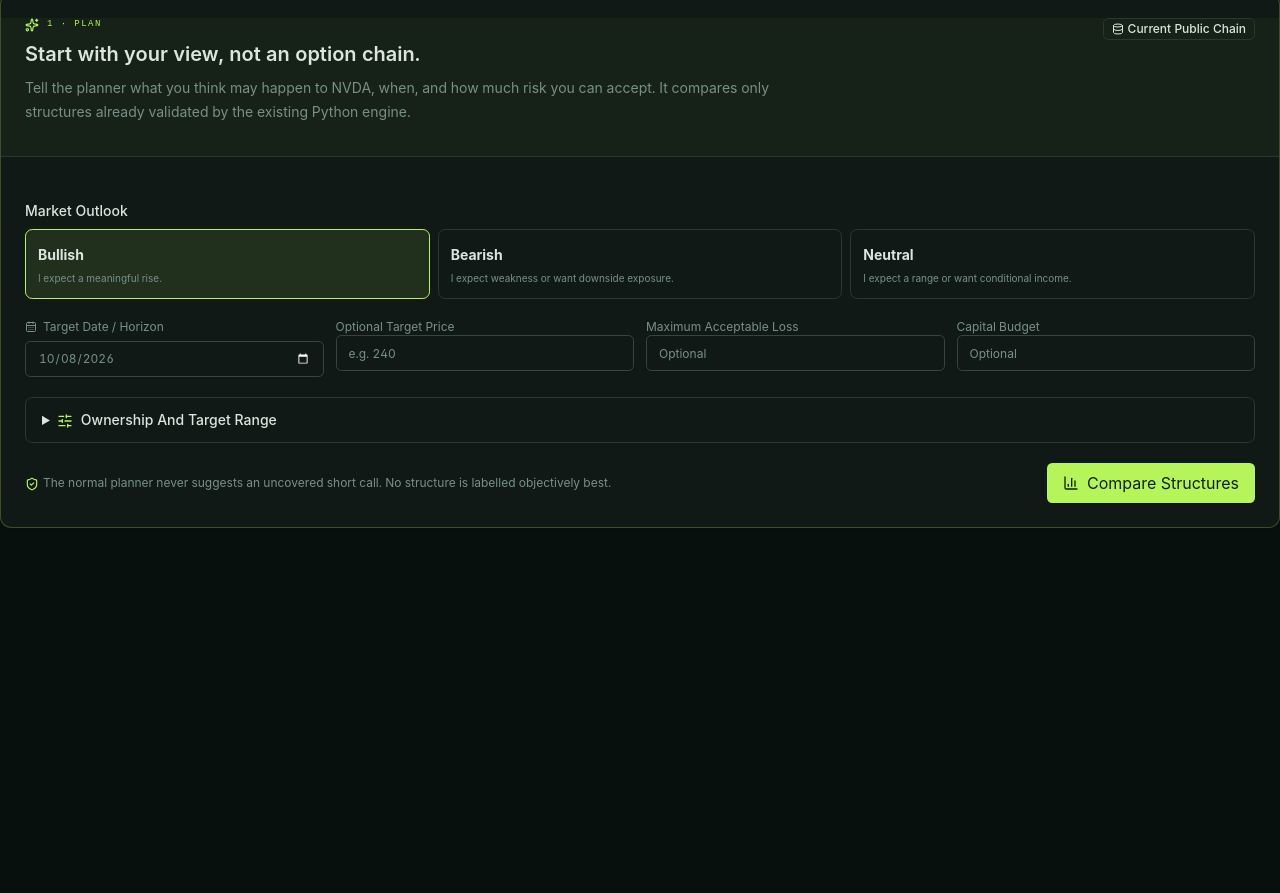
Test: OptionsPlanner › models the primary price-and-date scenario through the server API
Click the button "Compare Structures" at (1151, 483), box [1047, 463, 1255, 503]
(page scrolled)
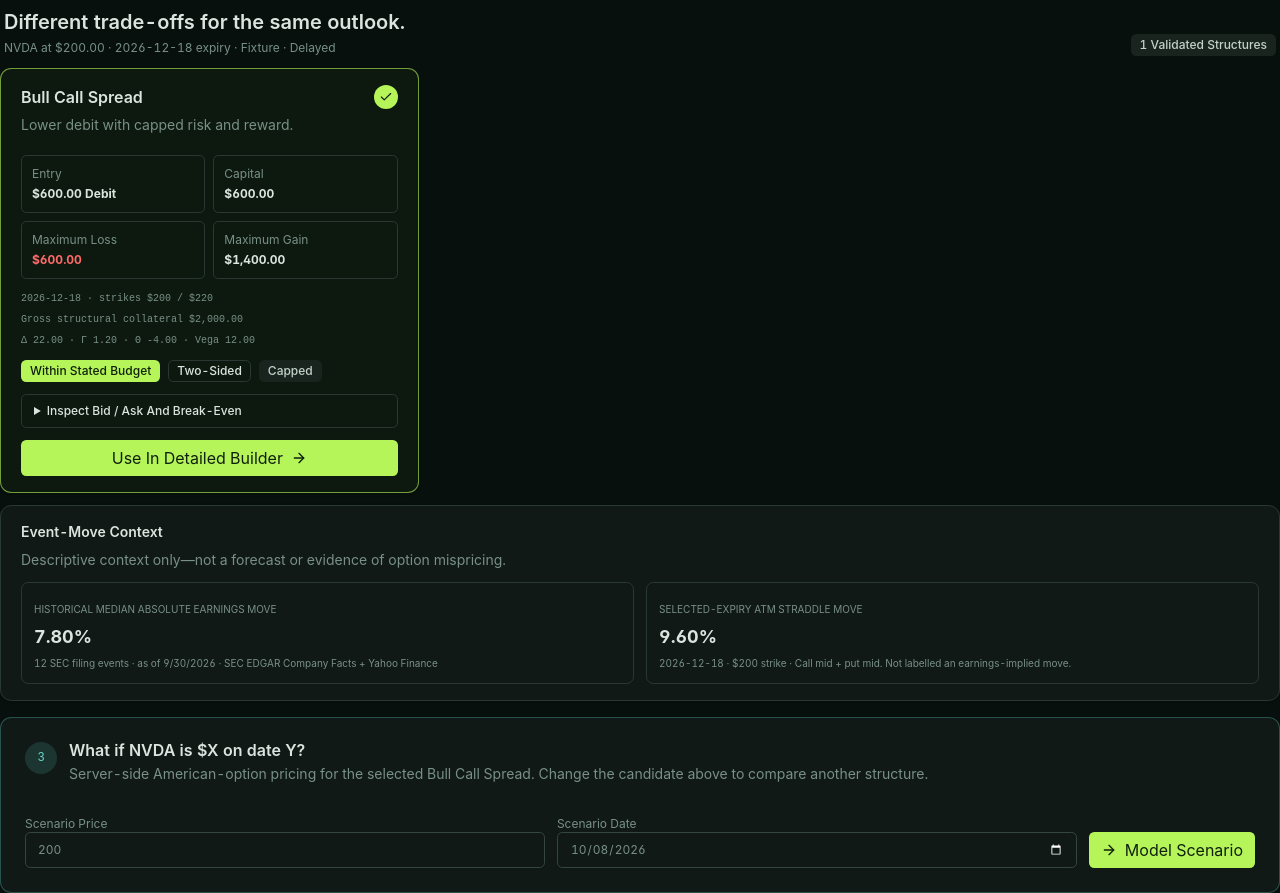
Check: the text "What if NVDA is $X on date Y?" is shown, box [69, 740, 305, 760]
Replace the text in the number field named "Option scenario price" with "215" at (285, 850), box [25, 832, 545, 868]
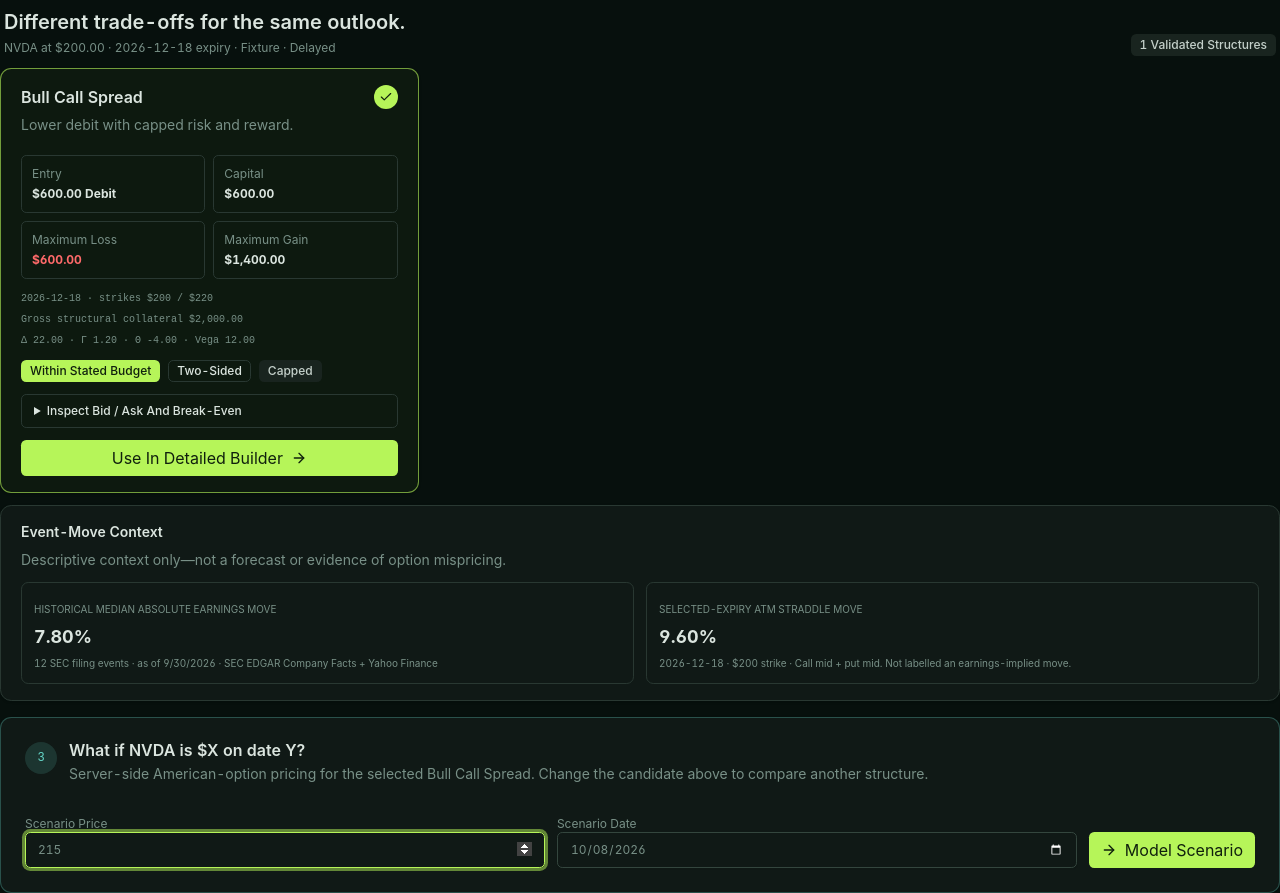
Click the button "Model Scenario" at (1172, 850), box [1089, 832, 1255, 868]
(page scrolled)
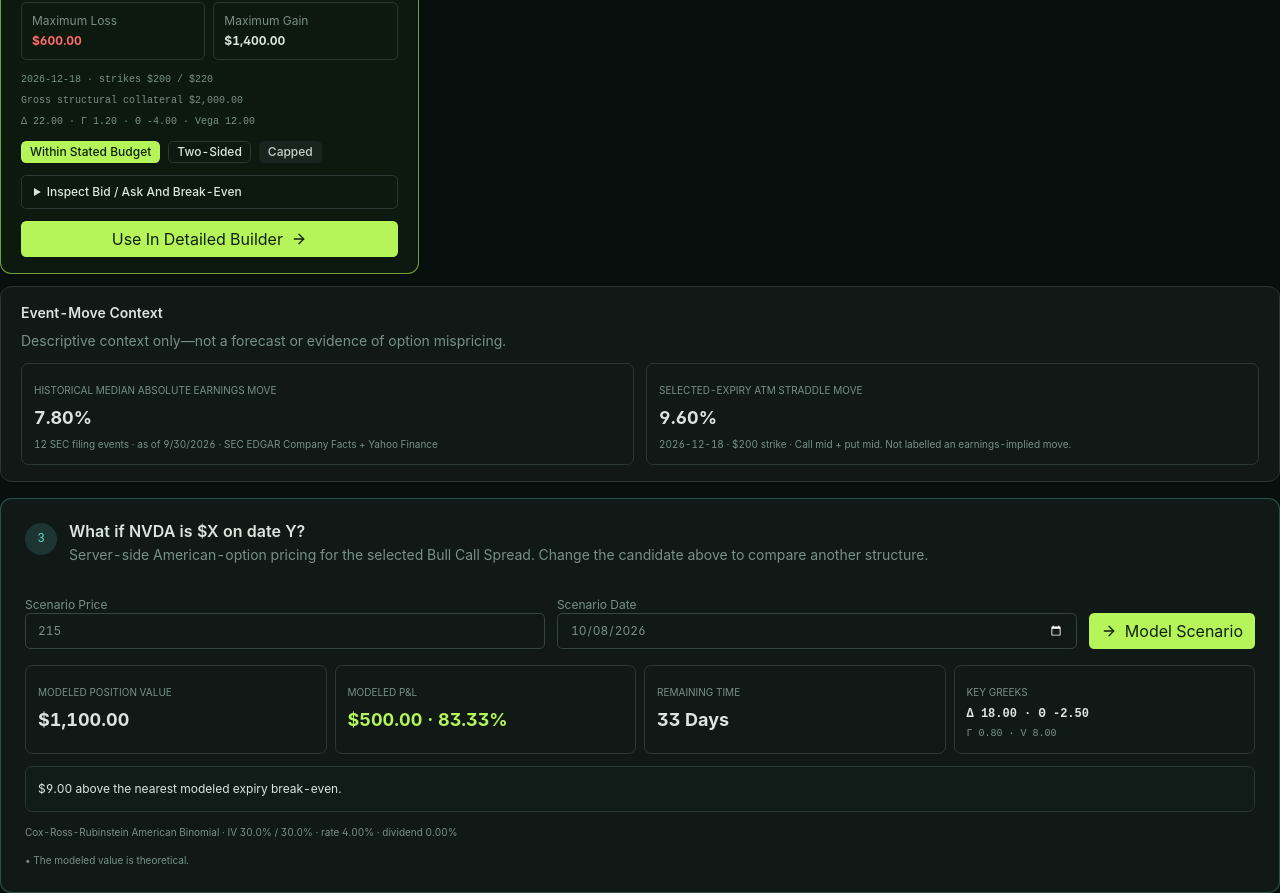
Check: the text "$9.00 above the nearest modeled expiry break-even." is shown, box [25, 766, 1255, 812]
Check: the text "$500.00 · 83.33%" is shown, box [348, 708, 508, 730]
